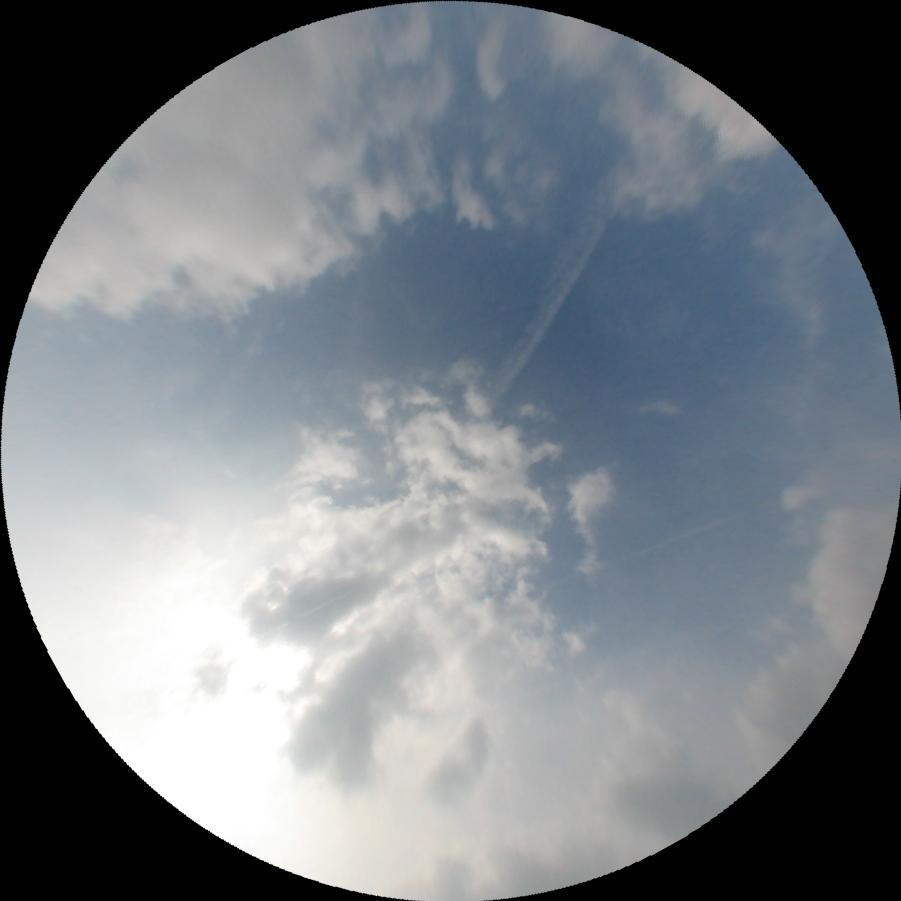contrail old: (539, 495, 779, 594)
contrail veryold: (480, 203, 611, 405)
parasite: (254, 586, 353, 641)
sun: (15, 522, 374, 864)
